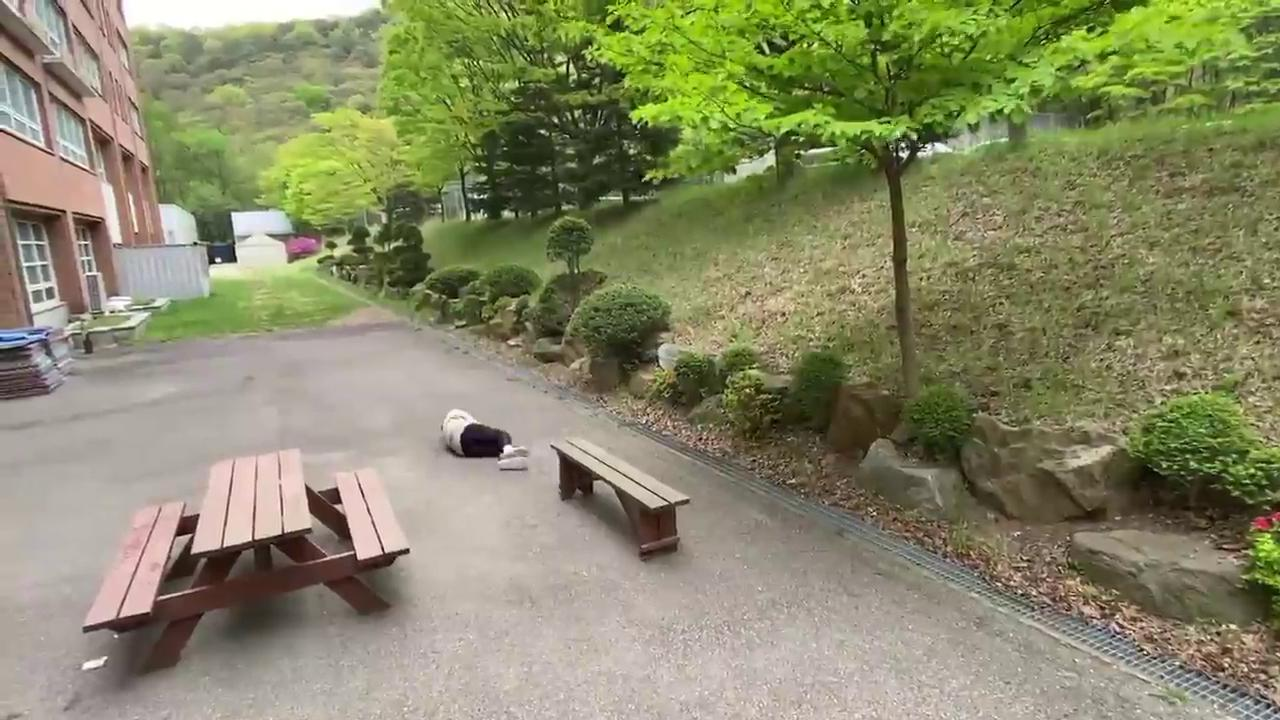faint: (435, 407, 533, 471)
